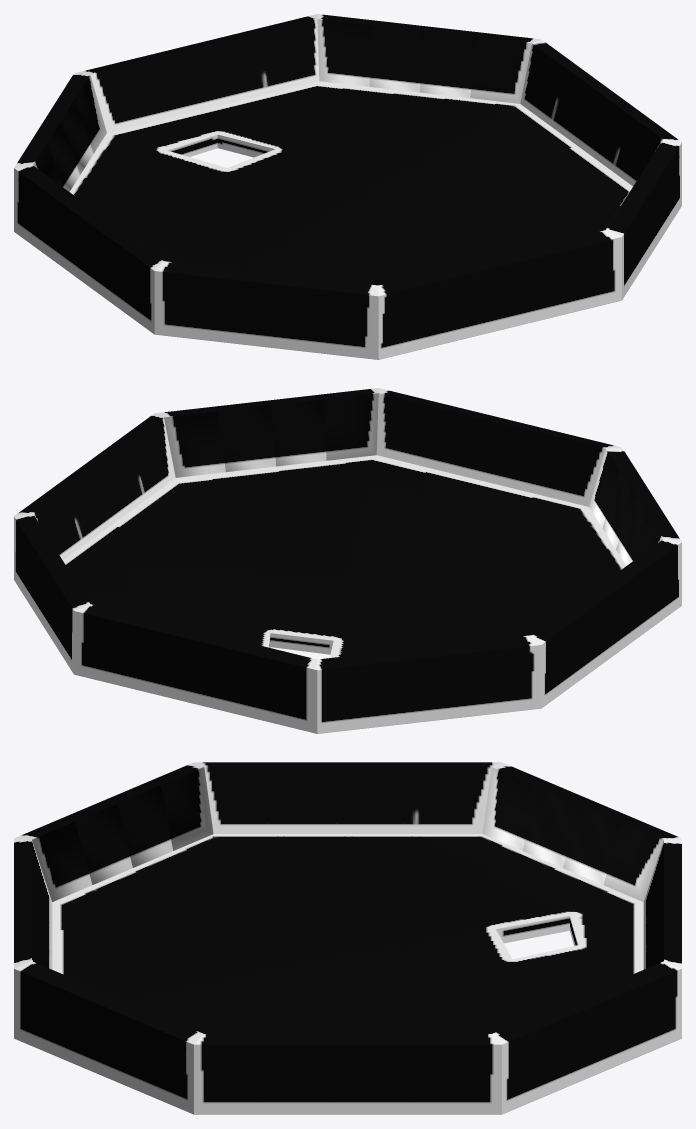
Rendered from floor_2.obj.
The picture shows the model from 3 angles, top to bottom: view 1: azimuth 30°, elevation 25°; view 2: azimuth 150°, elevation 25°; view 3: azimuth 270°, elevation 25°; orthographic projection. The views are drawn at different scales.
Parts seen in each view (by area): view 1: floor.002; view 2: floor.002; view 3: floor.002.
Part boxes in pixels (<box>): floor.002: <box>14,14,681,359</box>; floor.002: <box>14,388,681,733</box>; floor.002: <box>14,762,681,1114</box>.
Bounding box in the file's own units: 32.5 × 3.92 × 32.5.
